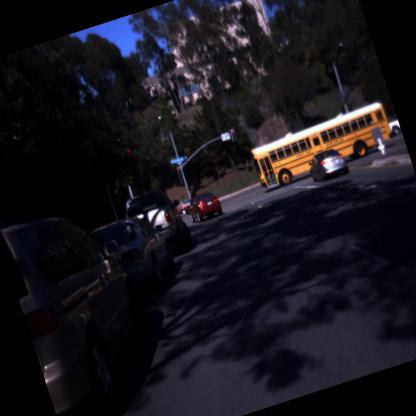trafficlight: (118, 145, 140, 181), (227, 126, 241, 148)
